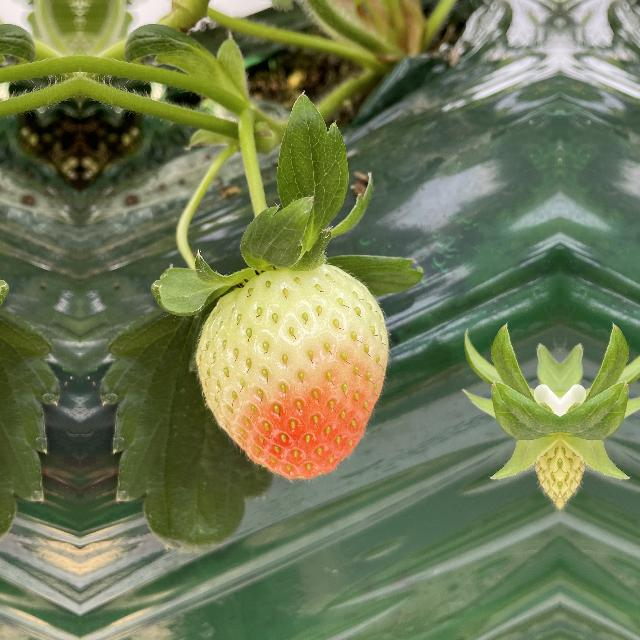Health_50: (188, 264, 410, 488)
